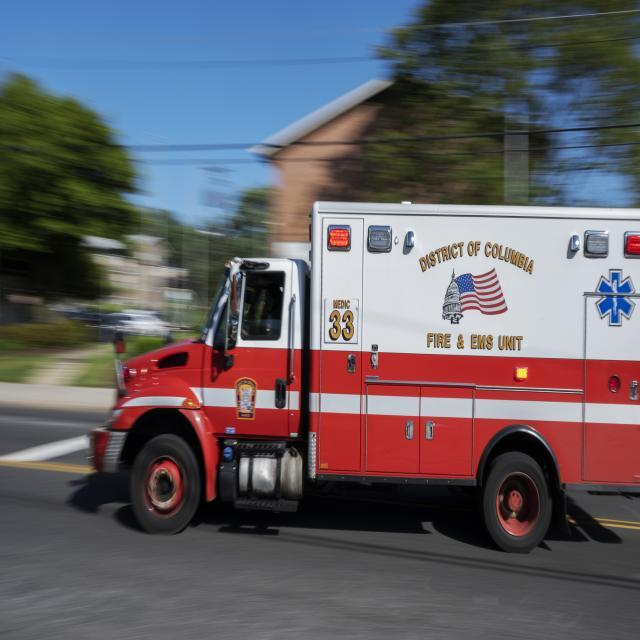emergency-vehicle: (72, 186, 640, 558)
